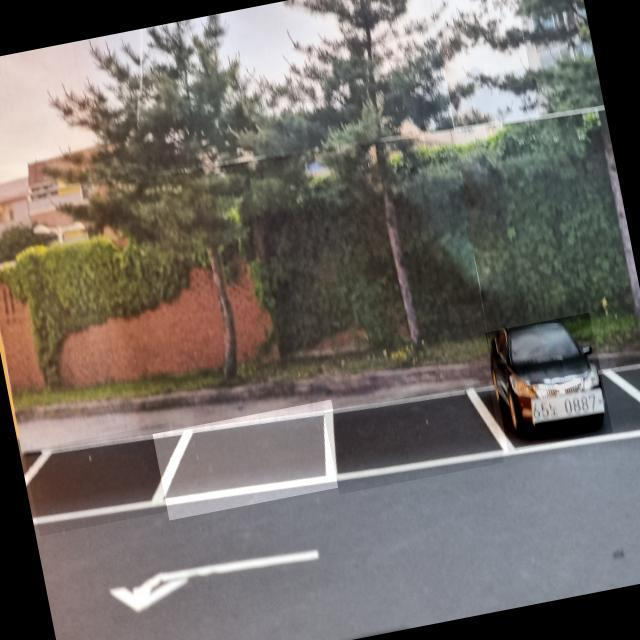empty: (153, 400, 348, 520), (323, 380, 504, 494), (23, 422, 185, 536)
occupied: (485, 312, 613, 452)
